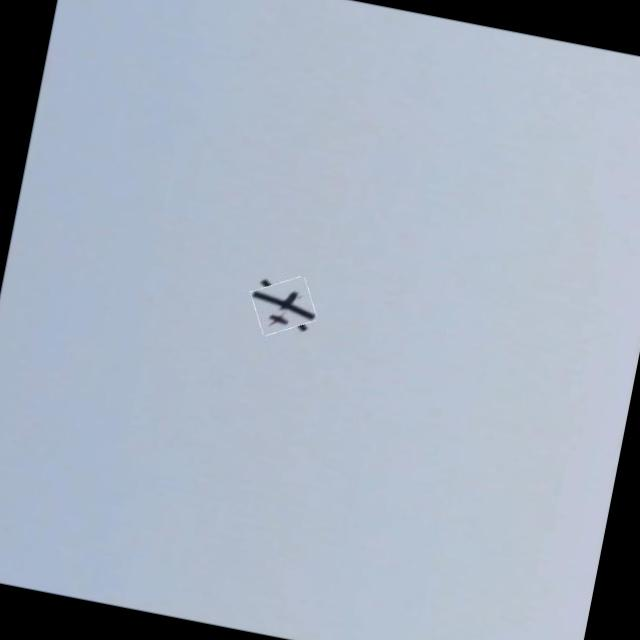UAV: (231, 253, 332, 358)
